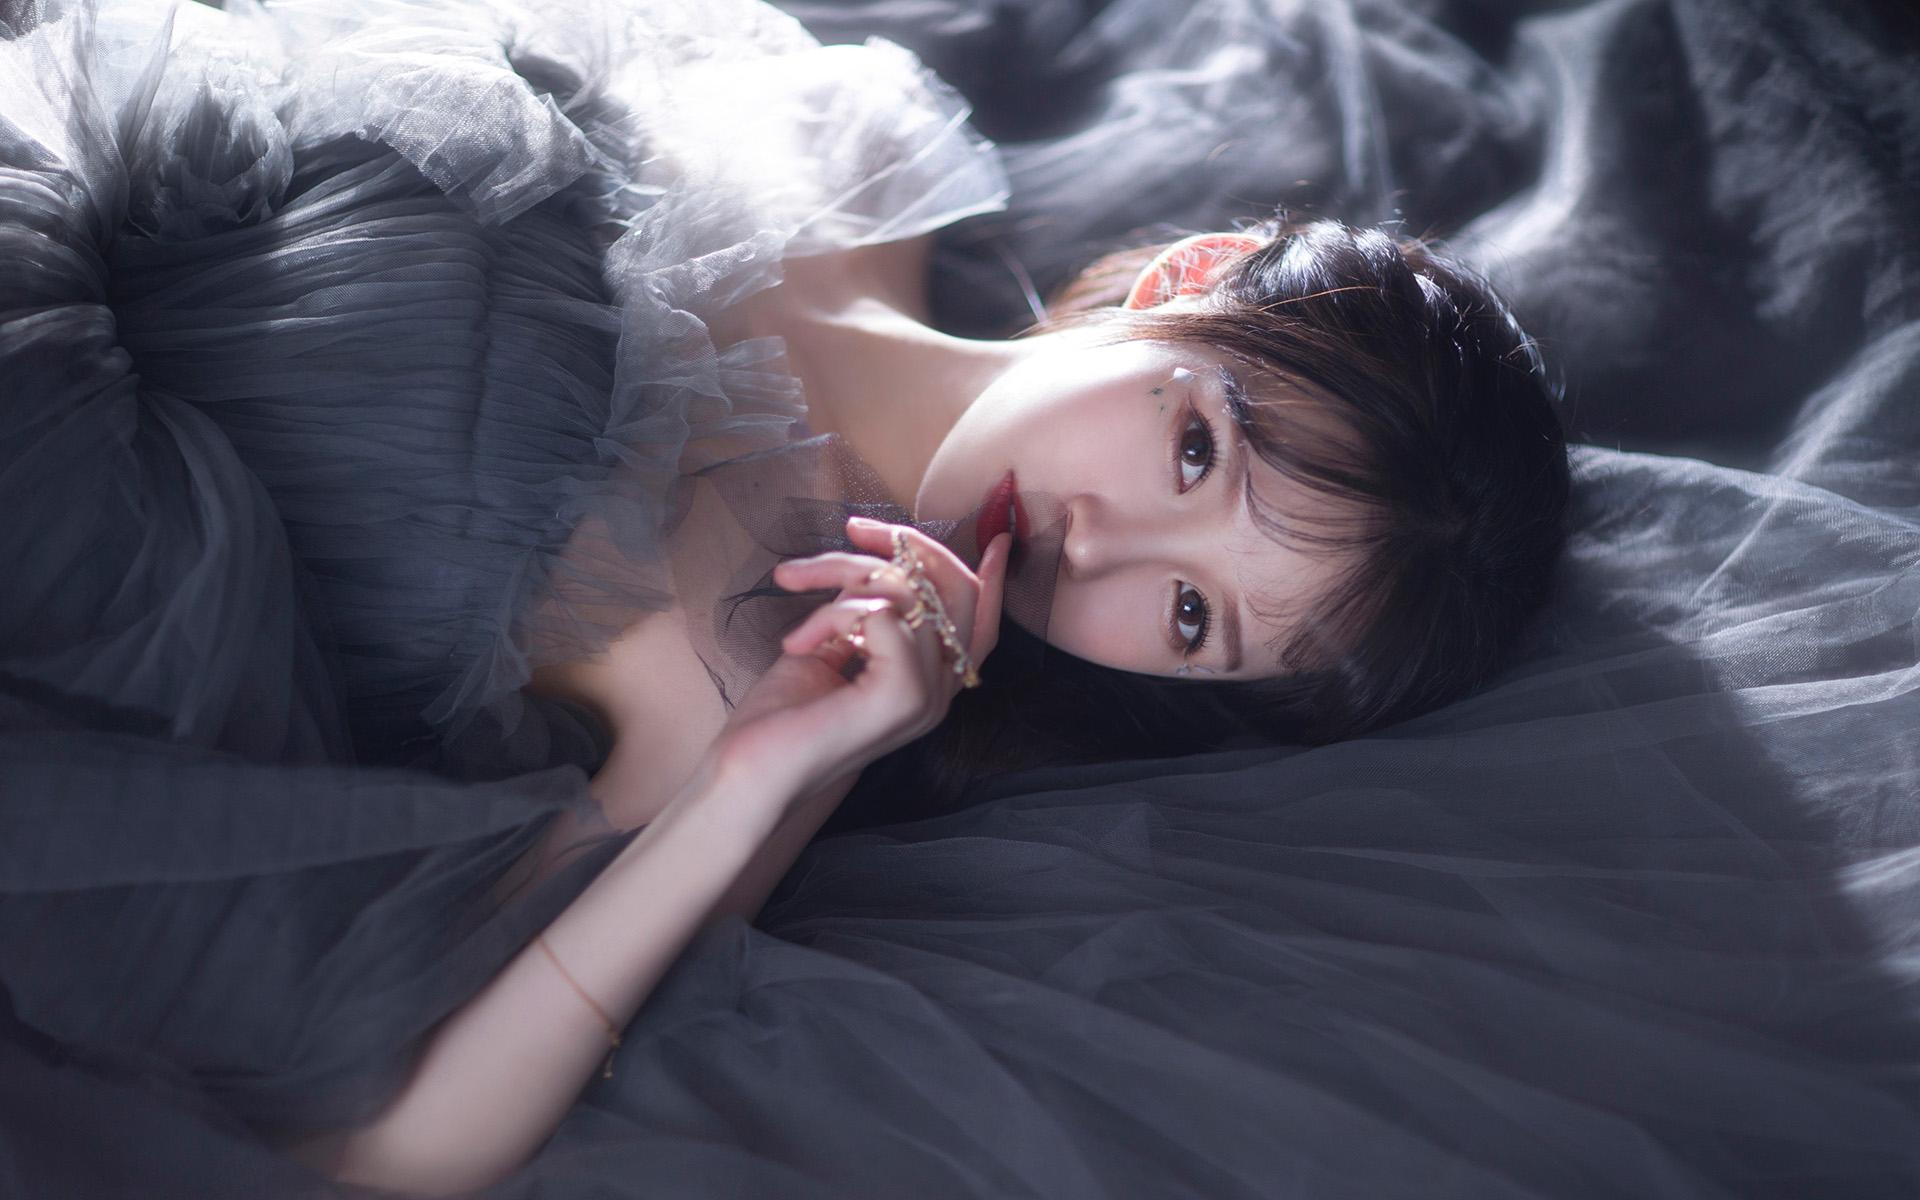person: (637, 129, 1507, 877)
